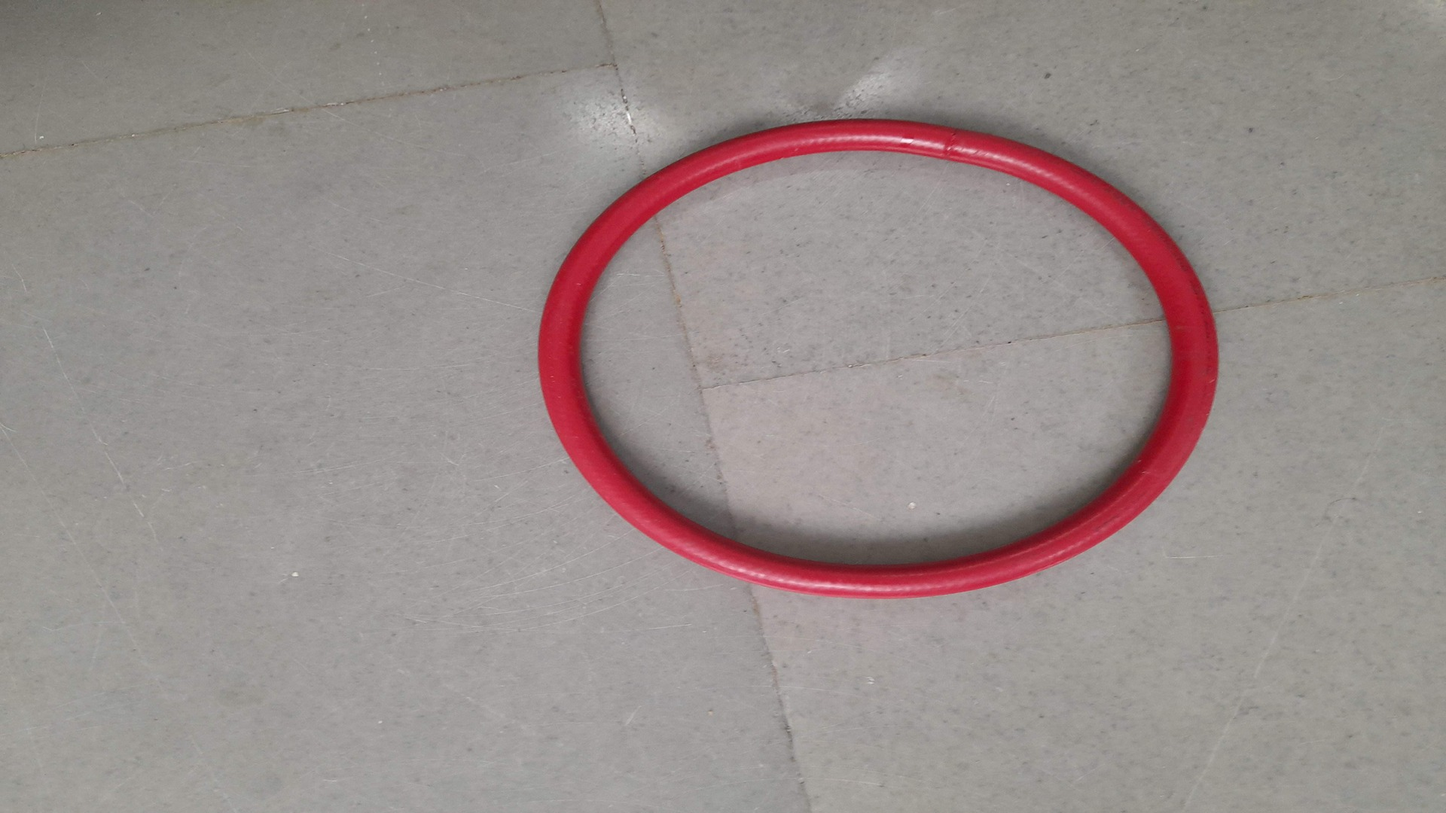Red ring: (537, 120, 1217, 600)
